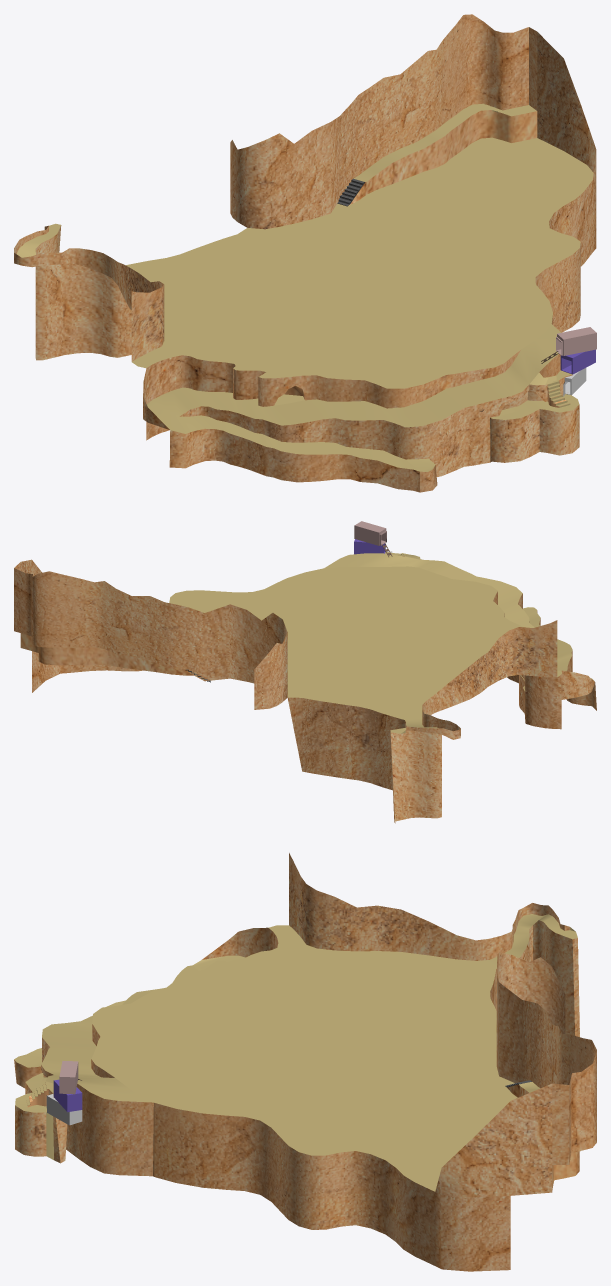
Rendered from DaoTownCliffs8.glb.
3 views of the same model, one above another, from view 1: azimuth 30°, elevation 25°; view 2: azimuth 150°, elevation 25°; view 3: azimuth 270°, elevation 25° (orthographic). The views are drawn at different scales.
Parts seen in each view (by area): view 1: DAOTOWNcliffs.011_Baked; view 2: DAOTOWNcliffs.011_Baked; view 3: DAOTOWNcliffs.011_Baked.
Part boxes in pixels (<box>): DAOTOWNcliffs.011_Baked: <box>14,14,596,492</box>; DAOTOWNcliffs.011_Baked: <box>14,521,596,823</box>; DAOTOWNcliffs.011_Baked: <box>14,853,596,1271</box>.
Size of the model in its own units: 106 by 38.6 by 93.27.
1 material, 1 textured.
